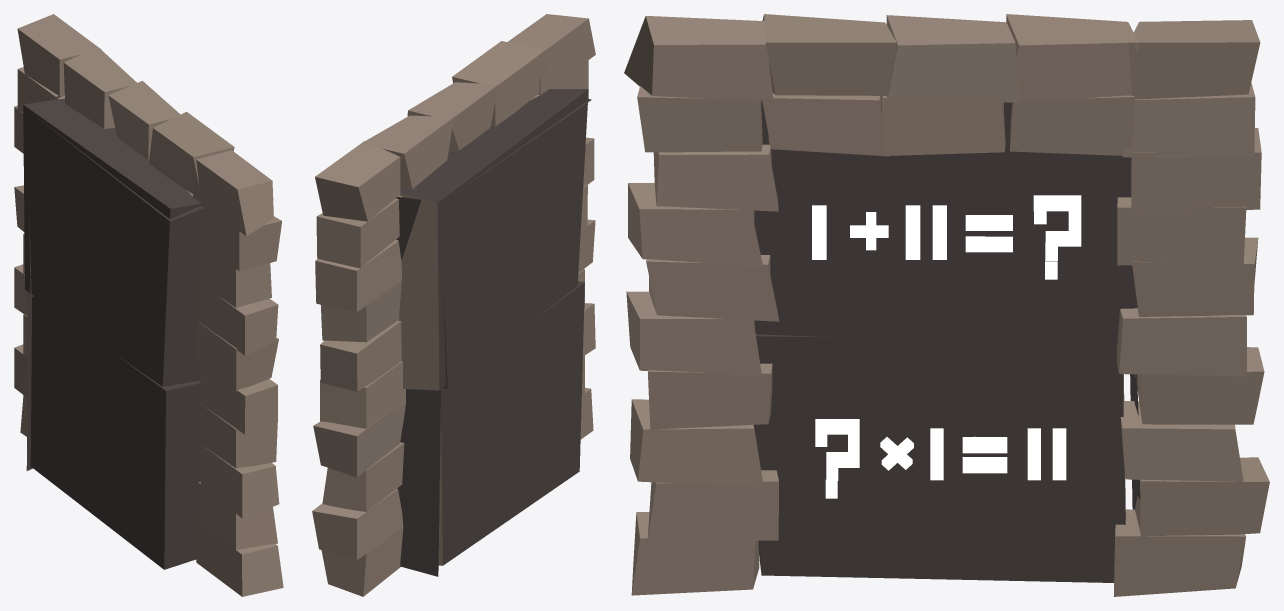
Rendered from Puzzle Wall 4.fbx.
3 views of the same model, side by side, from view 1: azimuth 30°, elevation 25°; view 2: azimuth 150°, elevation 25°; view 3: azimuth 270°, elevation 25° (orthographic). The views are drawn at different scales.
Visible parts, largest first — view 1: Cube.028; view 2: Cube.028; view 3: Cube.028.
Boxes of the visible parts, <box> form: Cube.028: <box>14,14,283,596</box>; Cube.028: <box>312,14,595,596</box>; Cube.028: <box>624,14,1269,596</box>.
Size of the model in its own units: 409 by 2063 by 2177.
